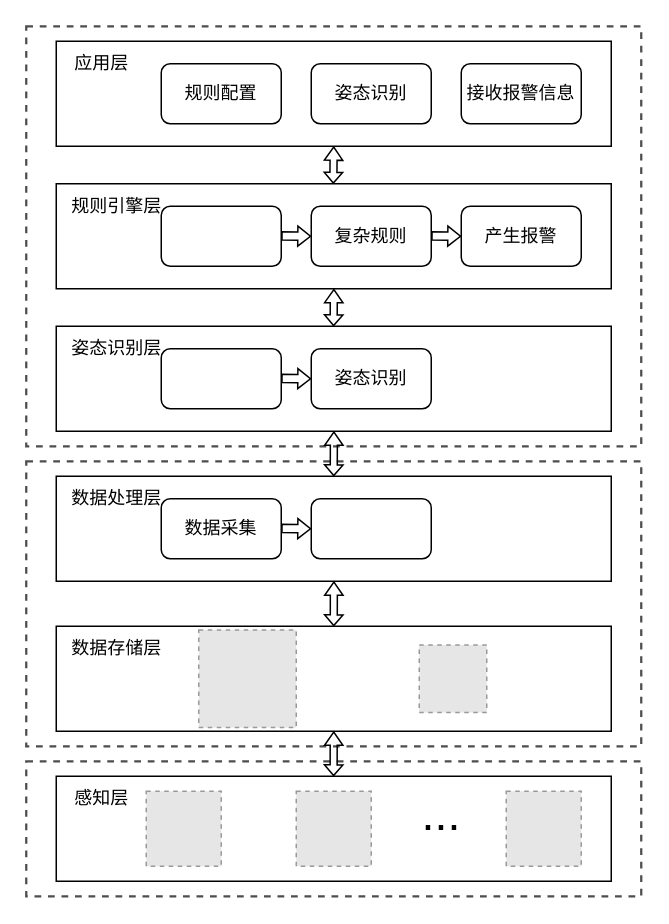
This 669x924 diagram has some shape labels left out. Grey dashed boxes stand in for pictures. Each missing label, with the centre of its shape:
"原子规则" belongs at pixel 220 235.
"数据解析" belongs at pixel 370 528.
"点云和目标预处理" belongs at pixel 220 378.
